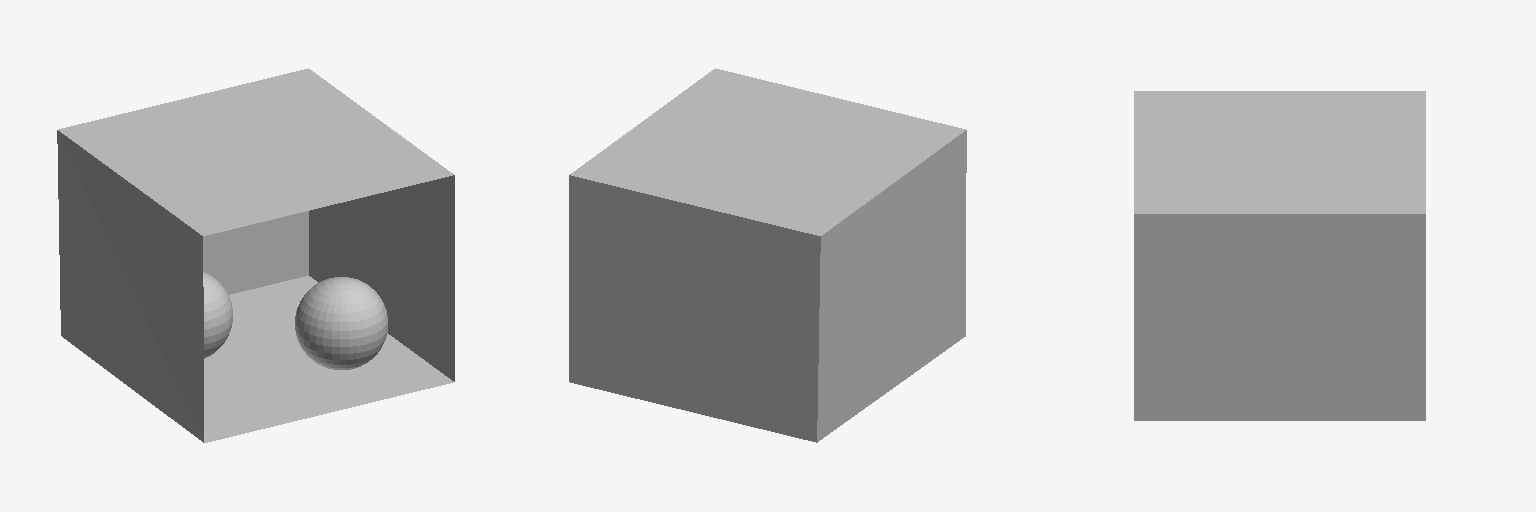
The model's file is cornell_box_sphere.obj.
The picture shows the model from 3 angles: view 1: azimuth 30°, elevation 25°; view 2: azimuth 150°, elevation 25°; view 3: azimuth 270°, elevation 25°; orthographic projection.
Visible parts, largest first — view 1: ceiling, leftWall, floor, rightWall, rightSphere, backWall, leftSphere; view 2: backWall, ceiling, leftWall; view 3: rightWall, ceiling.
Part boxes in pixels (bbox=[...]): ceiling: bbox=[58, 68, 453, 235]; leftWall: bbox=[57, 130, 203, 442]; floor: bbox=[204, 276, 453, 442]; rightWall: bbox=[309, 175, 454, 381]; rightSphere: bbox=[295, 277, 387, 369]; backWall: bbox=[203, 211, 308, 294]; leftSphere: bbox=[203, 272, 232, 358]; backWall: bbox=[569, 175, 820, 442]; ceiling: bbox=[570, 68, 965, 235]; leftWall: bbox=[817, 130, 966, 442]; rightWall: bbox=[1134, 214, 1425, 420]; ceiling: bbox=[1134, 91, 1425, 213].
Bounding box in the file's own units: 2.02 × 1.59 × 2.03.